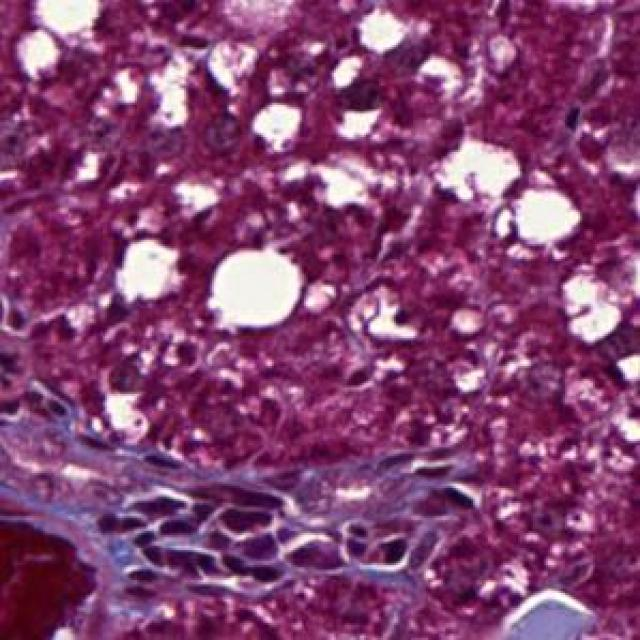inflammation: (124, 473, 289, 591), (336, 518, 411, 571)
